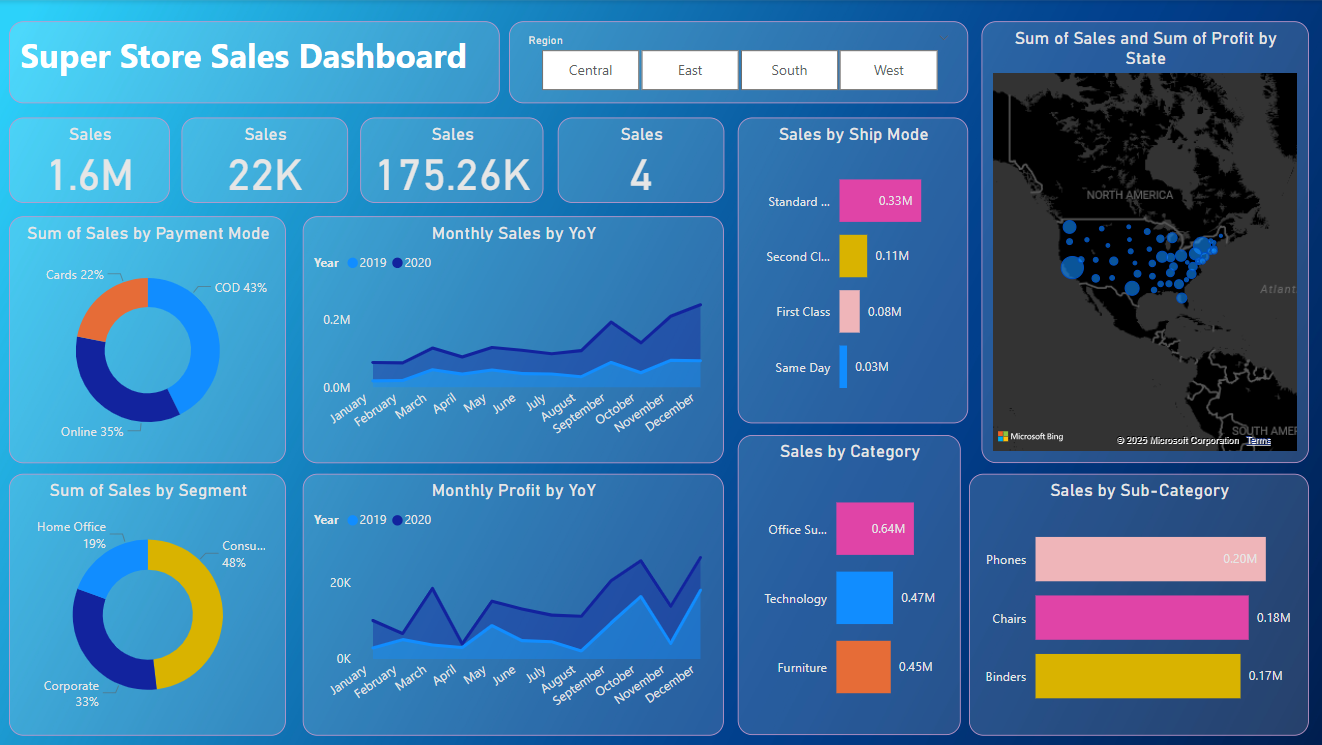

This screenshot's page, from the dashboard's own definition file:
{"tool":"powerbi","page":{"name":"Page 1","canvas":[1280,720],"ordinal":0},"visuals":[{"type":"clusteredBarChart","title":" Sales by Category","fields":{"Category":["SuperStore_Sales_Dataset.Category"],"Y":["Sum(SuperStore_Sales_Dataset.Sales)"]},"box":[713.6,419.9,215.4,289.5],"z":0},{"type":"clusteredBarChart","title":" Sales by Sub-Category","fields":{"Category":["SuperStore_Sales_Dataset.Sub-Category"],"Y":["Sum(SuperStore_Sales_Dataset.Sales)"]},"box":[935.9,456.9,328,252.5],"z":1000},{"type":"clusteredBarChart","title":" Sales by Ship Mode","fields":{"Category":["SuperStore_Sales_Dataset.Ship Mode"],"Y":["Sum(SuperStore_Sales_Dataset.Sales)"]},"box":[713.6,113.9,222.3,295],"z":2000},{"type":"stackedAreaChart","title":"Monthly Sales by YoY","fields":{"Y":["Sum(SuperStore_Sales_Dataset.Sales)"],"Series":["SuperStore_Sales_Dataset.Order Date.Variation.Date Hierarchy.Year"],"Category":["SuperStore_Sales_Dataset.Order Date.Variation.Date Hierarchy.Month","SuperStore_Sales_Dataset.Order Date.Variation.Date Hierarchy.Day"]},"box":[293.7,208.6,406.2,238.8],"z":3000},{"type":"stackedAreaChart","title":"Monthly Profit by YoY","fields":{"Series":["SuperStore_Sales_Dataset.Order Date.Variation.Date Hierarchy.Year"],"Category":["SuperStore_Sales_Dataset.Order Date.Variation.Date Hierarchy.Month","SuperStore_Sales_Dataset.Order Date.Variation.Date Hierarchy.Day"],"Y":["Sum(SuperStore_Sales_Dataset.Profit)"]},"box":[293.7,456.9,406.2,252.5],"z":4000},{"type":"donutChart","fields":{"Category":["SuperStore_Sales_Dataset.Segment"],"Y":["Sum(SuperStore_Sales_Dataset.Sales)"]},"box":[9.6,456.9,267.6,252.5],"z":5000},{"type":"donutChart","fields":{"Category":["SuperStore_Sales_Dataset.Payment Mode","SuperStore_Sales_Dataset.Segment"],"Y":["Sum(SuperStore_Sales_Dataset.Sales)"]},"box":[9.6,208.6,267.6,238.8],"z":6000},{"type":"slicer","fields":{"Values":["SuperStore_Sales_Dataset.Region"]},"box":[492.6,20.6,443.2,79.6],"z":7000},{"type":"map","fields":{"Category":["SuperStore_Sales_Dataset.State"],"Size":["Sum(SuperStore_Sales_Dataset.Sales)"]},"box":[948.2,20.6,315.6,426.8],"z":8000},{"type":"textbox","box":[9.6,20.6,473.4,79.6],"z":9000},{"type":"card","title":"Sales","fields":{"Values":["Sum(SuperStore_Sales_Dataset.Sales)"]},"box":[9.6,113.9,155.1,82.3],"z":10000},{"type":"card","title":"Sales","fields":{"Values":["Sum(SuperStore_Sales_Dataset.Quantity)"]},"box":[175.6,113.9,160.5,82.3],"z":11000},{"type":"card","title":"Sales","fields":{"Values":["Sum(SuperStore_Sales_Dataset.Profit)"]},"box":[348.5,113.9,177,82.3],"z":12000},{"type":"card","title":"Sales","fields":{"Values":["Avg(SuperStore_Sales_Dataset.AvgDelivery)"]},"box":[539.3,113.9,160.5,82.3],"z":13000}]}

Visuals, with their boxes in screenshot pixels (x1, y1, x2, y2), scaled from the page's 1280x720 canvas onto the 1322x745 screenshot:
" Sales by Category" clusteredBarChart: bbox=(737, 434, 959, 734)
" Sales by Sub-Category" clusteredBarChart: bbox=(967, 473, 1305, 734)
" Sales by Ship Mode" clusteredBarChart: bbox=(737, 118, 967, 423)
"Monthly Sales by YoY" stackedAreaChart: bbox=(303, 216, 723, 463)
"Monthly Profit by YoY" stackedAreaChart: bbox=(303, 473, 723, 734)
donutChart - SuperStore_Sales_Dataset.Segment x Sum(SuperStore_Sales_Dataset.Sales): bbox=(10, 473, 286, 734)
donutChart - SuperStore_Sales_Dataset.Payment Mode x SuperStore_Sales_Dataset.Segment: bbox=(10, 216, 286, 463)
slicer - SuperStore_Sales_Dataset.Region: bbox=(509, 21, 967, 104)
map - SuperStore_Sales_Dataset.State x Sum(SuperStore_Sales_Dataset.Sales): bbox=(979, 21, 1305, 463)
textbox: bbox=(10, 21, 499, 104)
"Sales" card: bbox=(10, 118, 170, 203)
"Sales" card: bbox=(181, 118, 347, 203)
"Sales" card: bbox=(360, 118, 543, 203)
"Sales" card: bbox=(557, 118, 723, 203)
